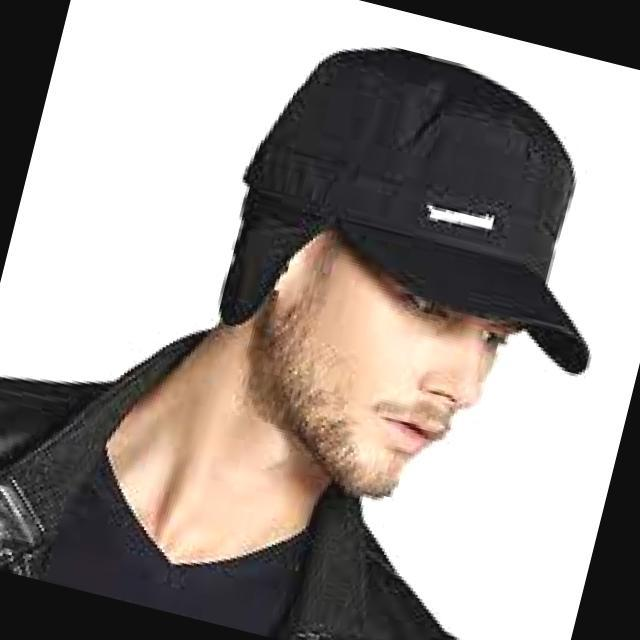cap: (195, 2, 640, 394)
